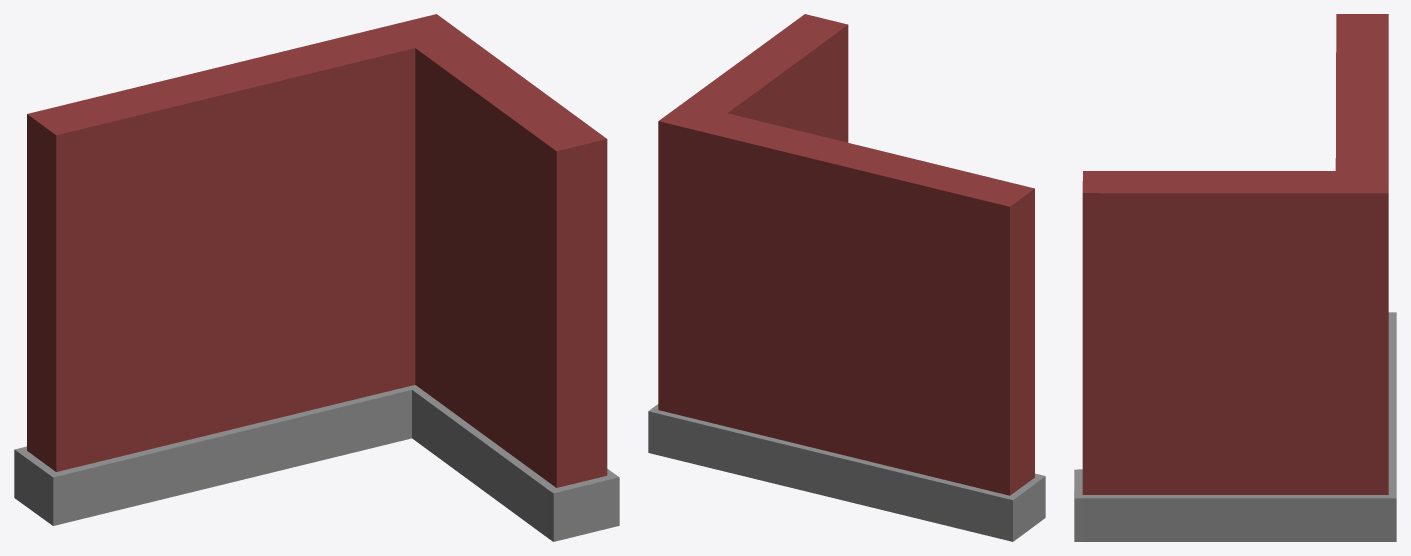
Rendered from qiang10.fbx.
The picture shows the model from 3 angles, left to right: view 1: azimuth 30°, elevation 25°; view 2: azimuth 150°, elevation 25°; view 3: azimuth 270°, elevation 25°; orthographic projection. The views are drawn at different scales.
Parts seen in each view (by area): view 1: 010; view 2: 010; view 3: 010.
Part boxes in pixels (x1,y1,x2,y2): 010: (14,14,619,541); 010: (648,14,1045,541); 010: (1074,14,1396,541).
Size of the model in its own units: 374 by 324 by 274.
